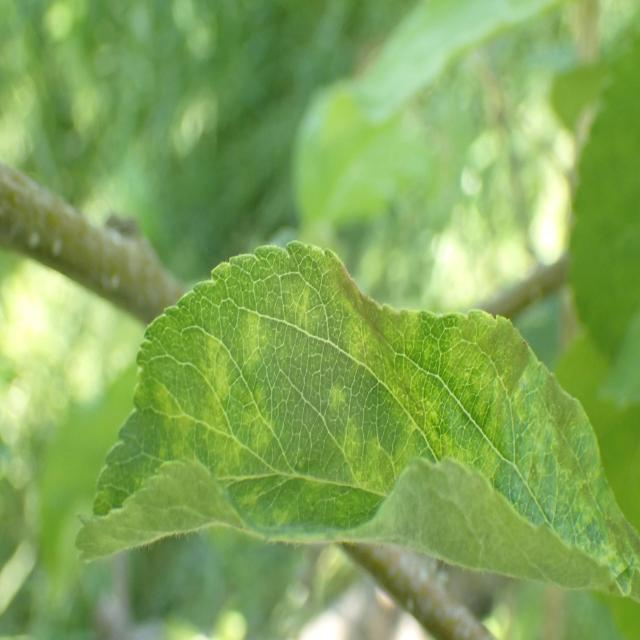scab: (117, 237, 640, 588)
